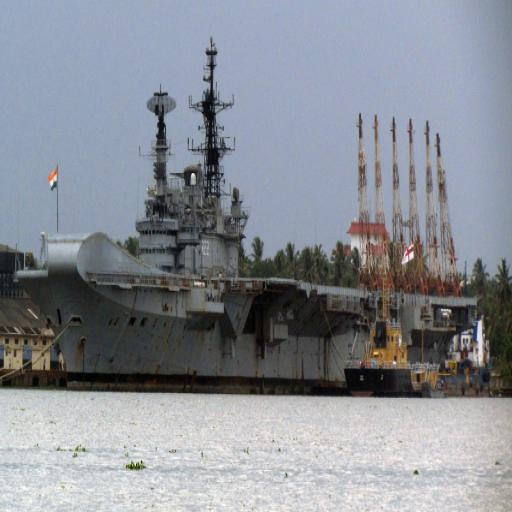Portanaves: (13, 36, 486, 393)
